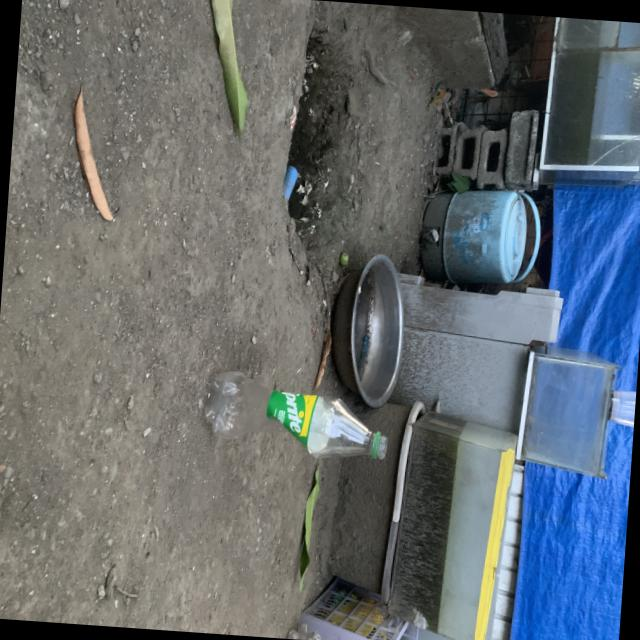Bottle: (204, 370, 387, 457)
